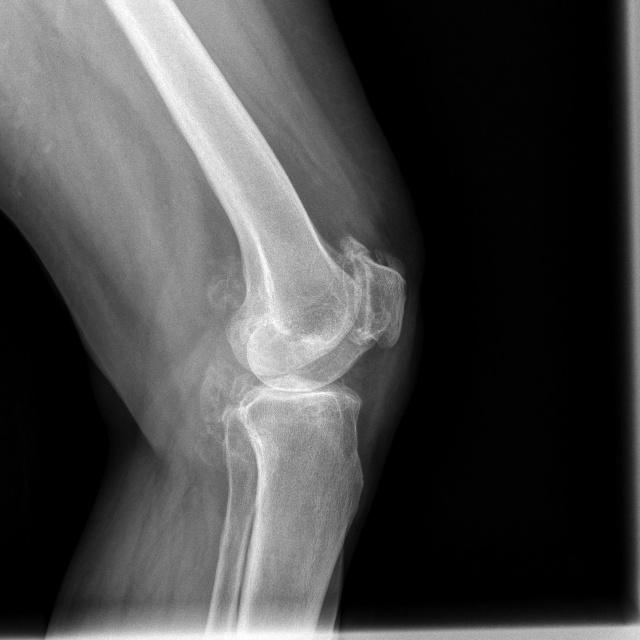Knee: (197, 229, 405, 457)
